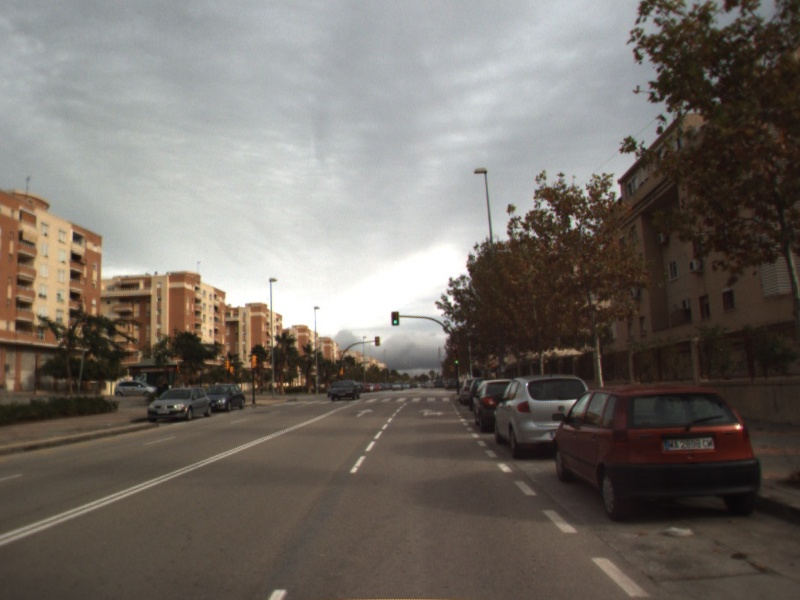STRAIGHT: (353, 406, 376, 419)
STRAIGHT_RIGHT: (416, 406, 447, 419)
